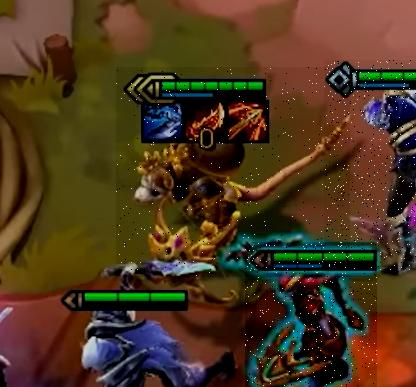1_shyvana: (245, 242, 377, 387)
2_varus: (324, 60, 416, 270)
3_twitch: (116, 67, 350, 277)
